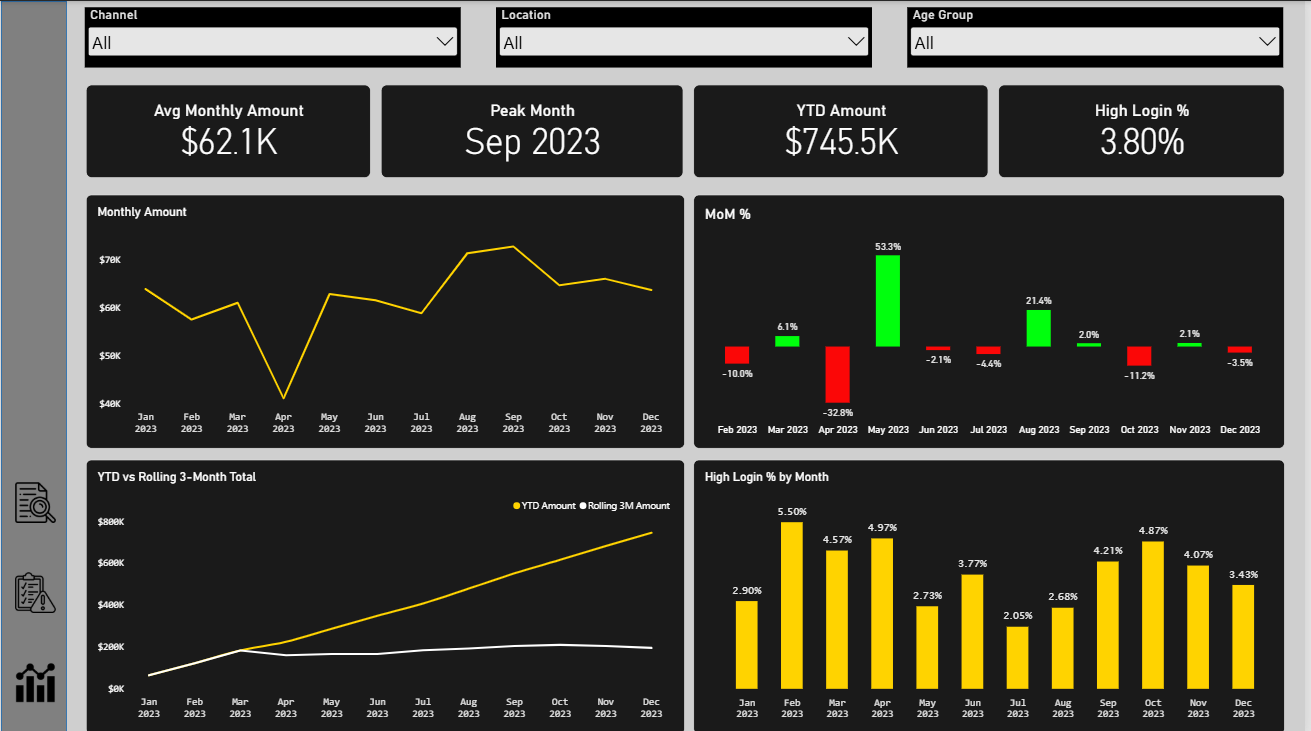

The page's visual inventory and layout, read from the dashboard file:
{"tool":"powerbi","page":{"name":"Trends","canvas":[1920,1080],"ordinal":2},"visuals":[{"type":"shape","title":"Page Selector","box":[0,0,96.7,1080.6],"z":0},{"type":"slicer","fields":{"Values":["Dim_Channel.Channel"]},"box":[123.7,9.2,554,88.6],"z":0,"group":"g1"},{"type":"cardVisual","fields":{"Data":["Measure.Avg Monthly Amount"]},"box":[124.6,122.7,419.2,137.8],"z":0,"group":"g2"},{"type":"image","box":[5.5,841.1,90,60],"z":0,"group":"g3"},{"type":"slicer","fields":{"Values":["Dim_Location.Location"]},"box":[729.4,9.2,554,88.6],"z":1000,"group":"g1"},{"type":"cardVisual","fields":{"Data":["Measure.Peak Month"]},"box":[558.9,122.7,445.6,137.8],"z":1000,"group":"g2"},{"type":"lineChart","title":"Monthly Amount","fields":{"Category":["Calender.Month Label"],"Y":["Measure.Total Amount"]},"box":[125.2,285.3,881.6,373.6],"z":1000},{"type":"image","box":[5.5,973.6,90,60],"z":1000,"group":"g3"},{"type":"group","id":"g1","title":"Slicers","box":[123.7,9.2,1765.3,88.6],"z":2000},{"type":"slicer","fields":{"Values":["Transactions.Age Group"]},"box":[1335,9.2,554,88.6],"z":2000,"group":"g1"},{"type":"cardVisual","fields":{"Data":["Measure.High Login %"]},"box":[1469.1,122.7,421.1,137.8],"z":2000,"group":"g2"},{"type":"image","box":[5.5,708.6,90,60],"z":2000,"group":"g3"},{"type":"group","id":"g2","title":"KPI Cards","box":[124.6,122.7,1765.5,137.8],"z":3000},{"type":"cardVisual","fields":{"Data":["Measure.YTD Amount"]},"box":[1019.6,122.7,434.3,137.8],"z":3000,"group":"g2"},{"type":"group","id":"g3","title":"Navigation Buttons","box":[5.5,708.6,90,325],"z":4000},{"type":"clusteredColumnChart","title":"MoM %","fields":{"Category":["Calender.Month Label"],"Y":["Measure.MoM %"]},"box":[1019.7,285.1,870.5,373.9],"z":5000},{"type":"lineChart","title":"YTD vs Rolling 3-Month Total","fields":{"Category":["Calender.Month Label"],"Y":["Measure.YTD Amount","Measure.Rolling 3M Amount"]},"box":[124.6,676,881.8,404.1],"z":6000},{"type":"columnChart","title":"High Login % by Month","fields":{"Category":["Calender.Month Label"],"Y":["Measure.High Login %"]},"box":[1019.7,676,870.5,404.1],"z":7000}]}

Visuals, with their boxes on the page's 1920x1080 design canvas (x1, y1, x2, y2). These are canvas units, not pixel positions in the 1311x731 screenshot, which may show the page scaled, cropped or inside an application window:
"Page Selector" shape: (0, 0, 97, 1081)
slicer - Dim_Channel.Channel: (124, 9, 678, 98)
cardVisual - Measure.Avg Monthly Amount: (125, 123, 544, 260)
image: (6, 841, 96, 901)
slicer - Dim_Location.Location: (729, 9, 1283, 98)
cardVisual - Measure.Peak Month: (559, 123, 1004, 260)
"Monthly Amount" lineChart: (125, 285, 1007, 659)
image: (6, 974, 96, 1034)
"Slicers" group: (124, 9, 1889, 98)
slicer - Transactions.Age Group: (1335, 9, 1889, 98)
cardVisual - Measure.High Login %: (1469, 123, 1890, 260)
image: (6, 709, 96, 769)
"KPI Cards" group: (125, 123, 1890, 260)
cardVisual - Measure.YTD Amount: (1020, 123, 1454, 260)
"Navigation Buttons" group: (6, 709, 96, 1034)
"MoM %" clusteredColumnChart: (1020, 285, 1890, 659)
"YTD vs Rolling 3-Month Total" lineChart: (125, 676, 1006, 1080)
"High Login % by Month" columnChart: (1020, 676, 1890, 1080)
